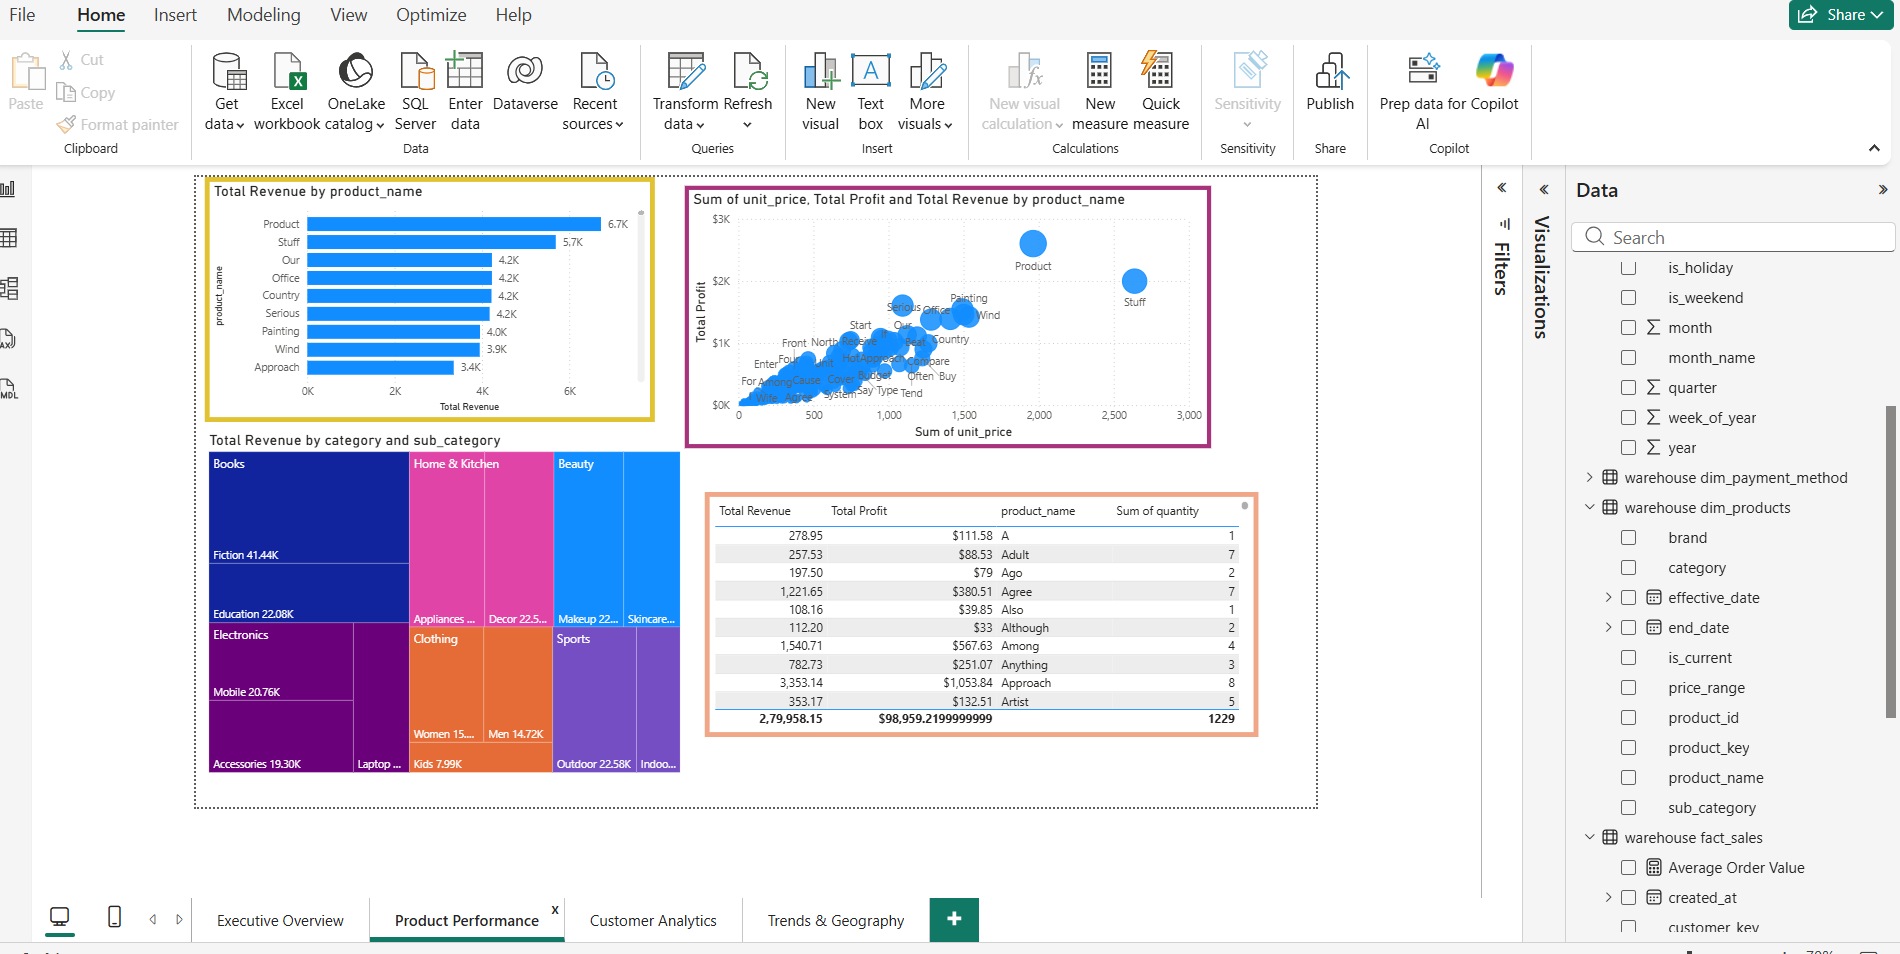

The dashboard page shown, as its layout file describes it:
{"tool":"powerbi","page":{"name":"Product Performance","canvas":[1280,720],"ordinal":1},"visuals":[{"type":"barChart","fields":{"Y":["warehouse fact_sales.Total Revenue"],"Category":["warehouse dim_products.product_name"]},"box":[10,0,514.3,280],"z":0},{"type":"treemap","fields":{"Group":["warehouse dim_products.category"],"Details":["warehouse dim_products.sub_category"],"Values":["warehouse fact_sales.Total Revenue"]},"box":[10,290,548.6,395.7],"z":1},{"type":"scatterChart","fields":{"X":["Sum(warehouse fact_sales.unit_price)"],"Y":["warehouse fact_sales.Total Profit"],"Category":["warehouse dim_products.product_name"],"Size":["warehouse fact_sales.Total Revenue"]},"box":[558.6,10,601.4,300],"z":2},{"type":"tableEx","fields":{"Values":["warehouse fact_sales.Total Revenue","warehouse fact_sales.Total Profit","warehouse dim_products.product_name","Sum(warehouse fact_sales.quantity)"]},"box":[581.4,360,632.9,280],"z":3}]}

Visuals, with their boxes on the page's 1280x720 design canvas (x1, y1, x2, y2). These are canvas units, not pixel positions in the 1900x954 screenshot, which may show the page scaled, cropped or inside an application window:
barChart - warehouse fact_sales.Total Revenue x warehouse dim_products.product_name: box=[10, 0, 524, 280]
treemap - warehouse dim_products.category x warehouse dim_products.sub_category: box=[10, 290, 559, 686]
scatterChart - Sum(warehouse fact_sales.unit_price) x warehouse fact_sales.Total Profit: box=[559, 10, 1160, 310]
tableEx - warehouse fact_sales.Total Revenue x warehouse fact_sales.Total Profit: box=[581, 360, 1214, 640]
